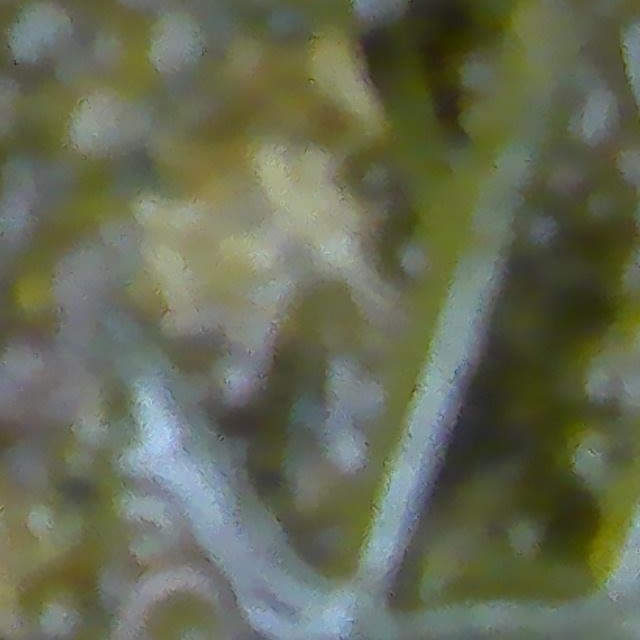SeaGrape: (140, 6, 209, 80), (7, 0, 74, 63)
